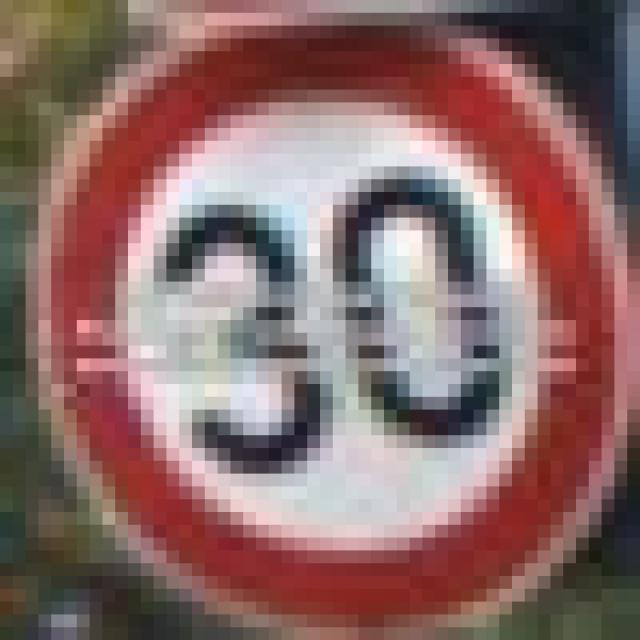SPEED_LIMIT_30: (13, 0, 614, 627)
